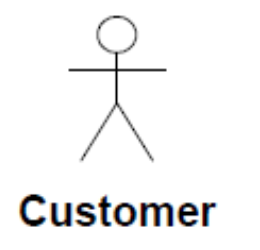actor: (64, 13, 173, 166)
text: (13, 186, 221, 234)
